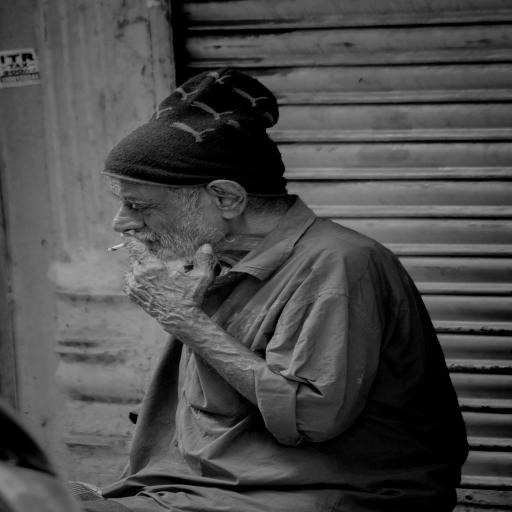terdeteksi merokok: (88, 179, 188, 267)
